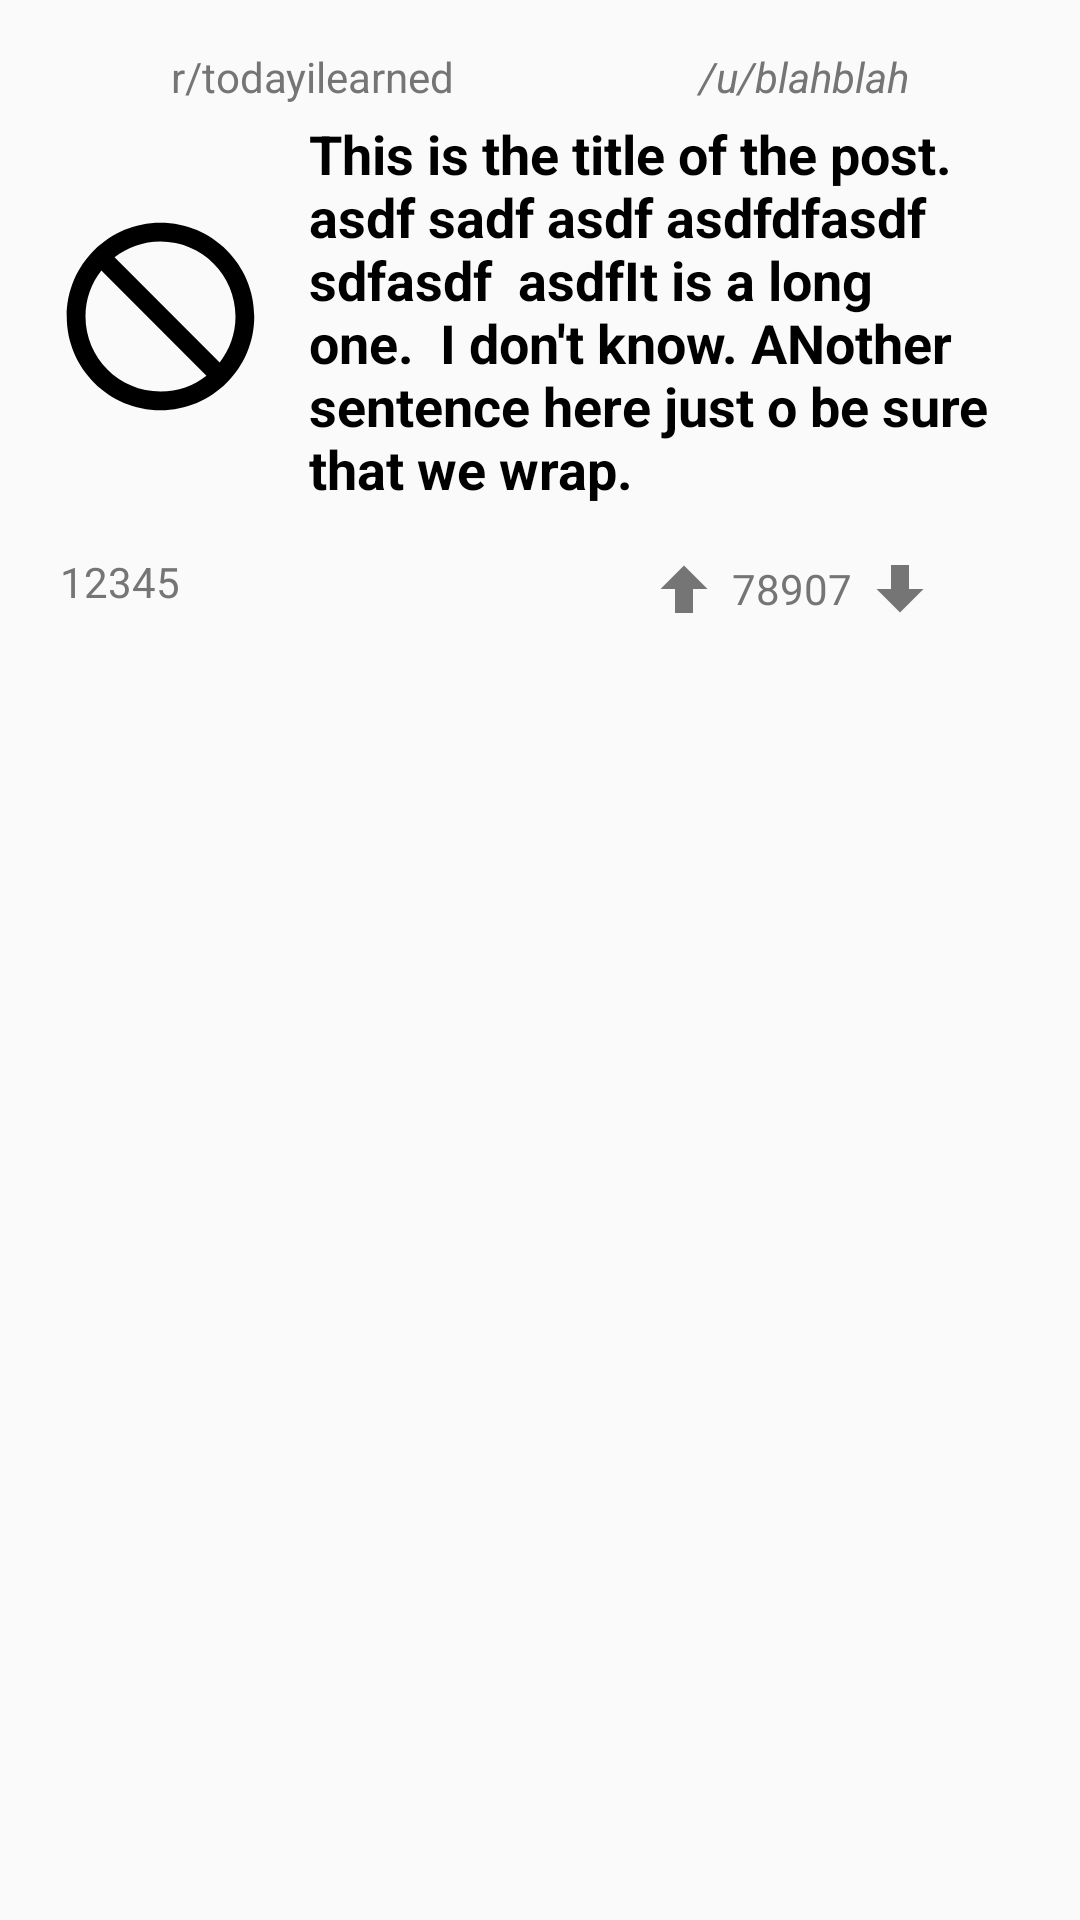

Where to tap for icons on this 1080x1920 app screen, as (x,y):
arrow down: (900,588)
arrow up: (684,589)
do not distrub: (160,316)
